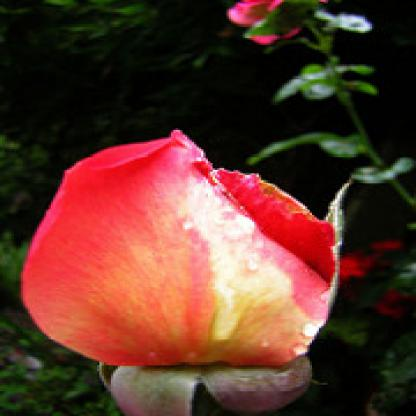ROSE-MAWAR: (17, 124, 366, 410)
